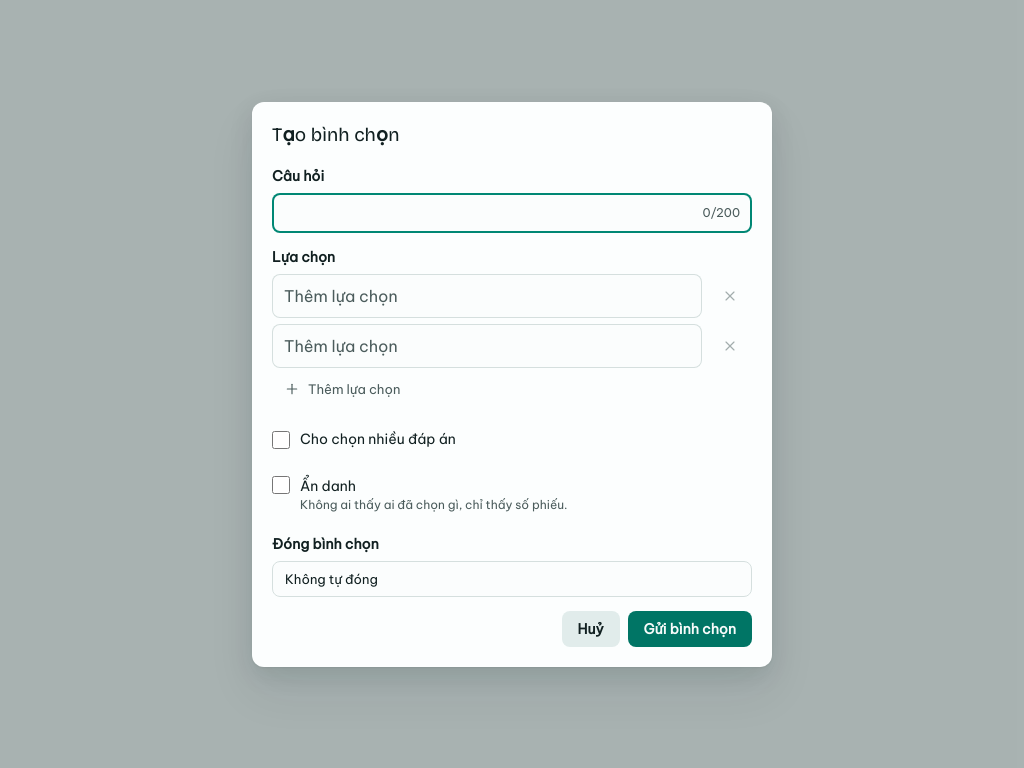
Test: PollDialog › refuses a past end time and sends nothing
Type "Họp lúc nào?" into the field labelled "Câu hỏi" at (489,212), box [284,192,694,232]
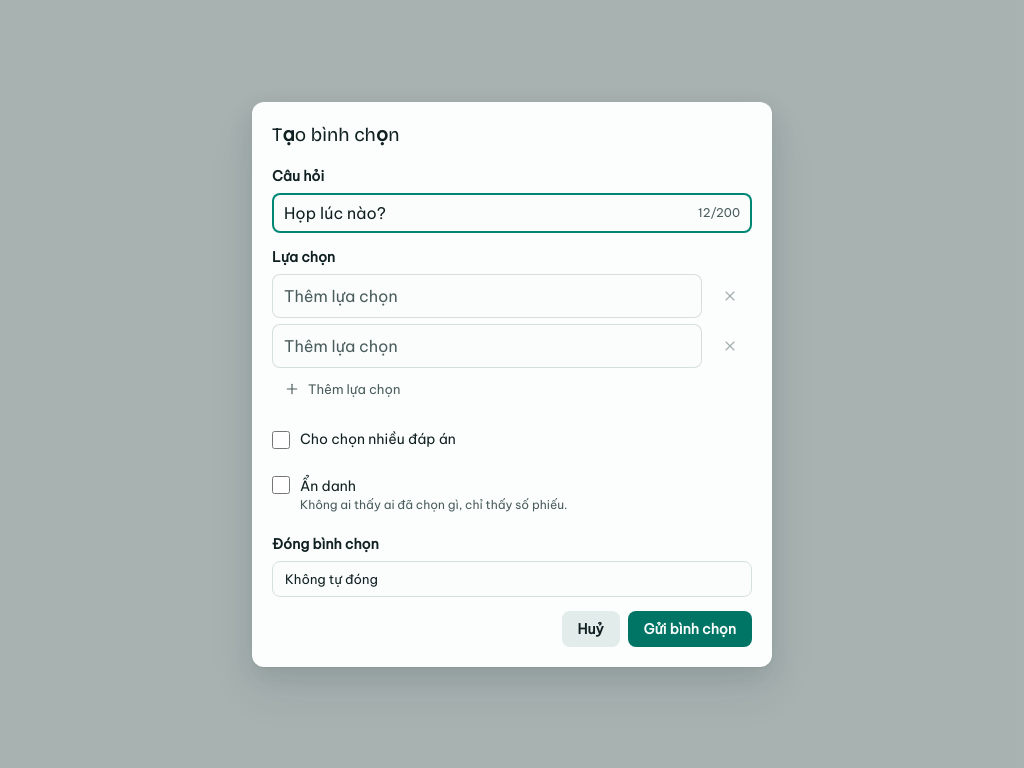
Type "Sáng" into the field named "Lựa chọn 1" at (487,296), box [272,274,702,318]
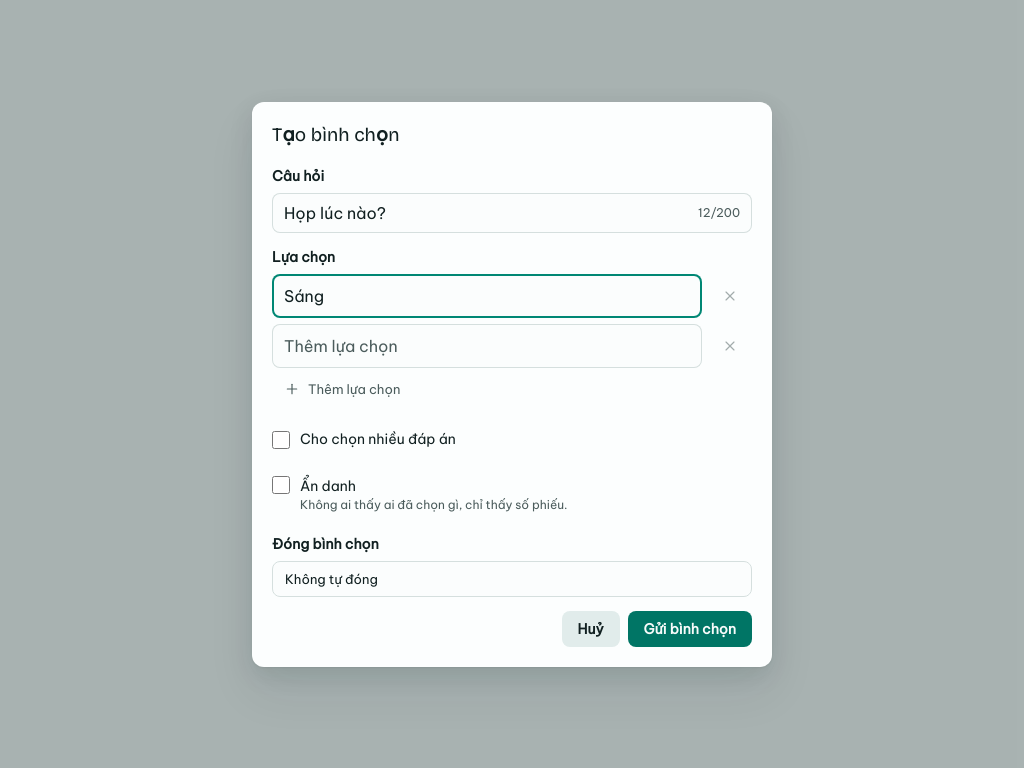
Type "Chiều" into the field named "Lựa chọn 2" at (487,346), box [272,324,702,368]
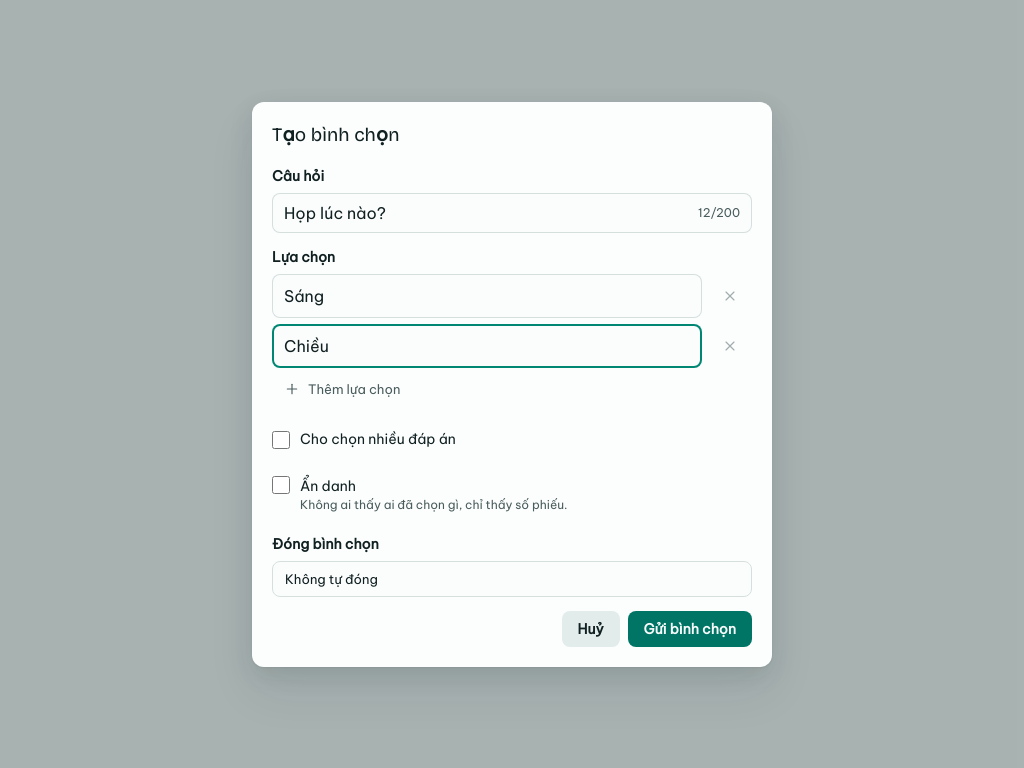
Select "Chọn ngày giờ…" in the dropdown labelled "Đóng bình chọn" at (512,578), box [272,560,752,596]
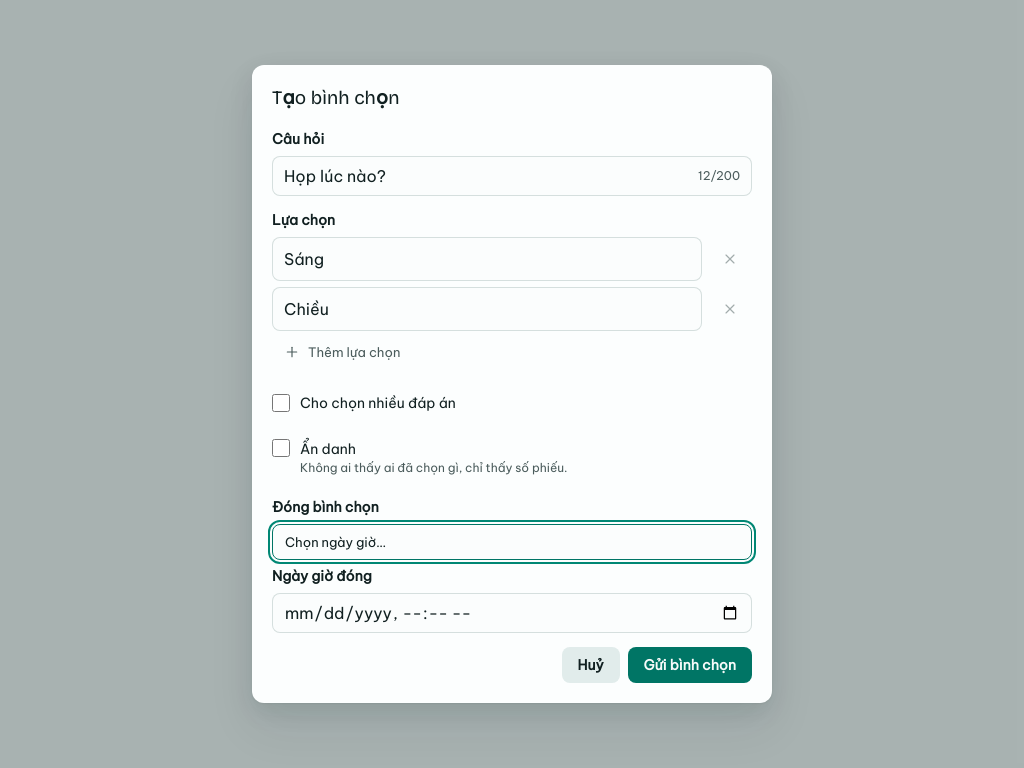
Type "2020-01-01T08:00" into the field labelled "Ngày giờ đóng" at (512,613), box [284,593,740,633]
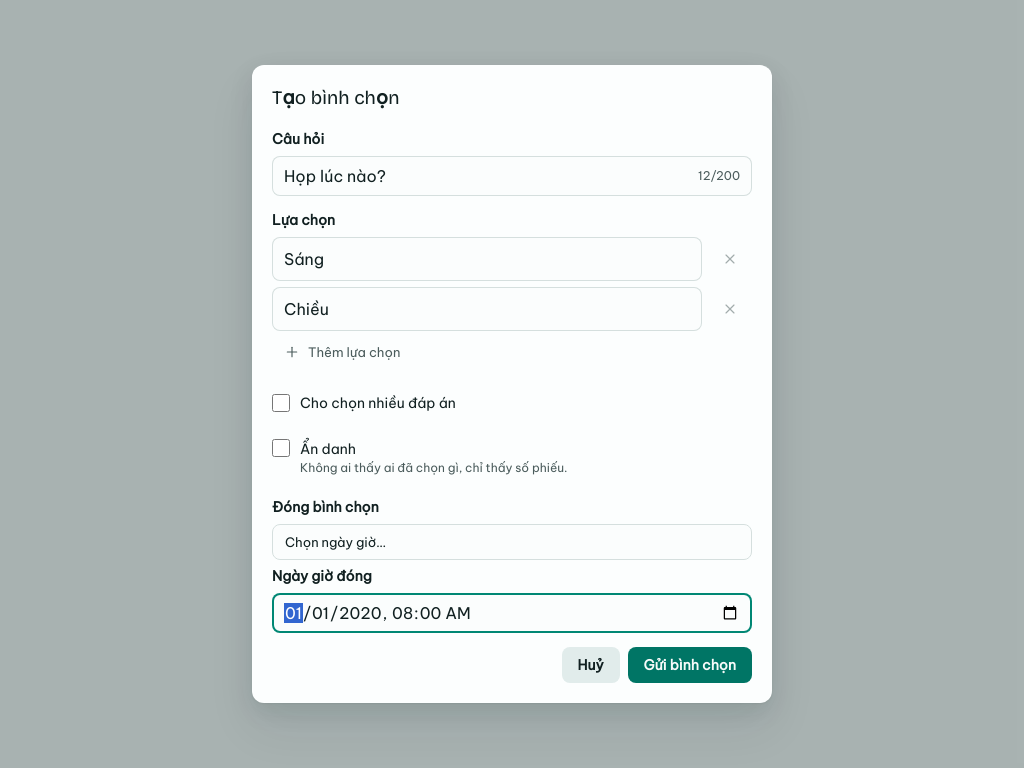
Click the button "Gửi bình chọn" at (690,665), box [628,647,752,683]
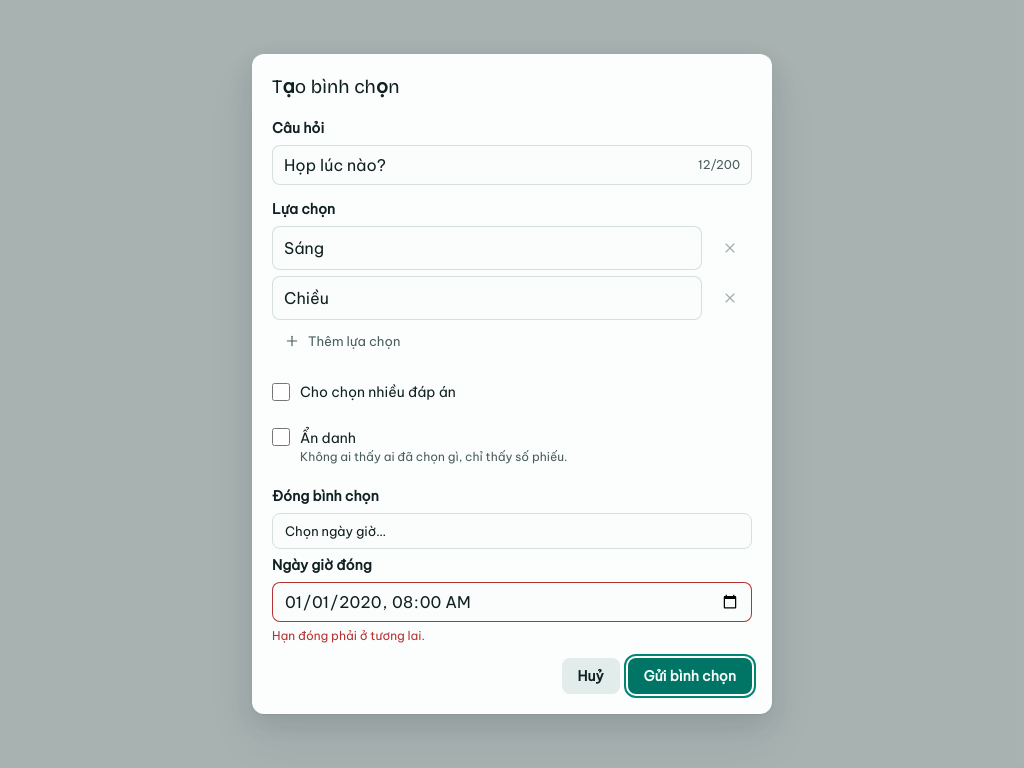
Expected: the text "Hạn đóng phải ở tương lai." is shown, [272,628,425,643]
